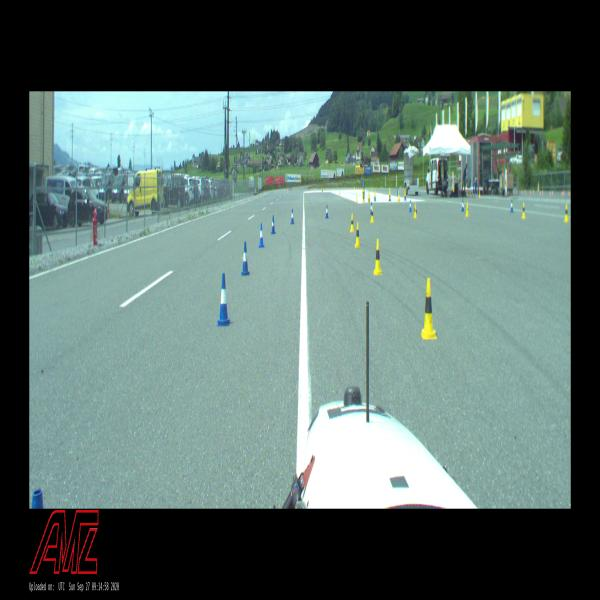blue_cone: (217, 273, 231, 326), (242, 242, 250, 276), (258, 224, 264, 248), (271, 215, 276, 234), (290, 208, 294, 224), (325, 205, 329, 218), (510, 200, 513, 212), (409, 200, 412, 212), (461, 200, 464, 211), (370, 202, 372, 215)
yellow_cone: (421, 278, 437, 339), (373, 239, 383, 275), (355, 221, 361, 247), (564, 204, 569, 222), (370, 206, 374, 223), (522, 203, 526, 218), (465, 202, 469, 217), (351, 213, 354, 232), (414, 204, 417, 218)
